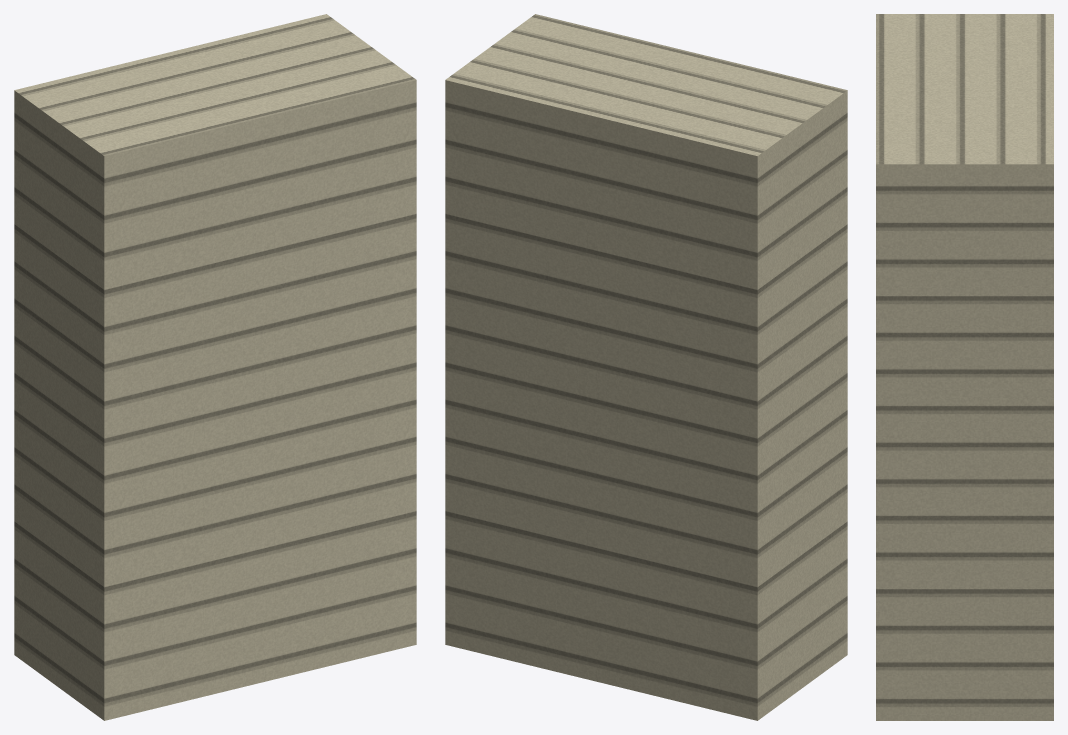
File: wardrobe_armoire.glb
3 renders of one model, left to right at view 1: azimuth 30°, elevation 25°; view 2: azimuth 150°, elevation 25°; view 3: azimuth 270°, elevation 25°, orthographic.
Visible parts, largest first — view 1: wardrobe_armoire-col; view 2: wardrobe_armoire-col; view 3: wardrobe_armoire-col.
Boxes of the visible parts, <box> form: wardrobe_armoire-col: <box>14,14,416,720</box>; wardrobe_armoire-col: <box>445,14,847,720</box>; wardrobe_armoire-col: <box>876,14,1053,720</box>.
Size of the model in its own units: 1.1 by 1.9 by 0.55.
1 material, 1 textured.
